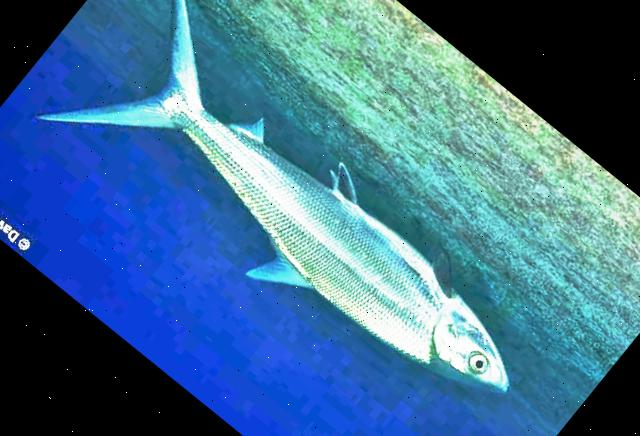Healthy Fish: (37, 0, 507, 389)
